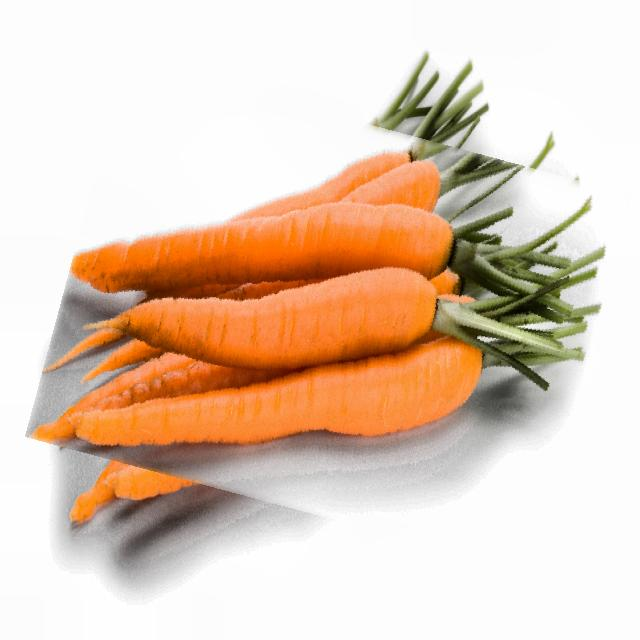carrot: (46, 90, 612, 541)
